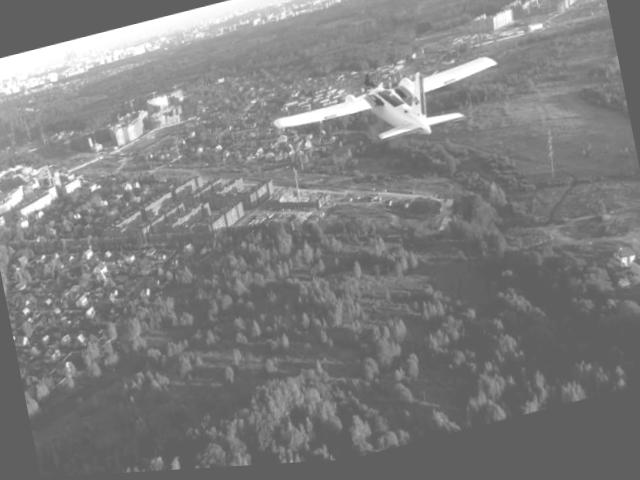hedef: (270, 42, 514, 183)
